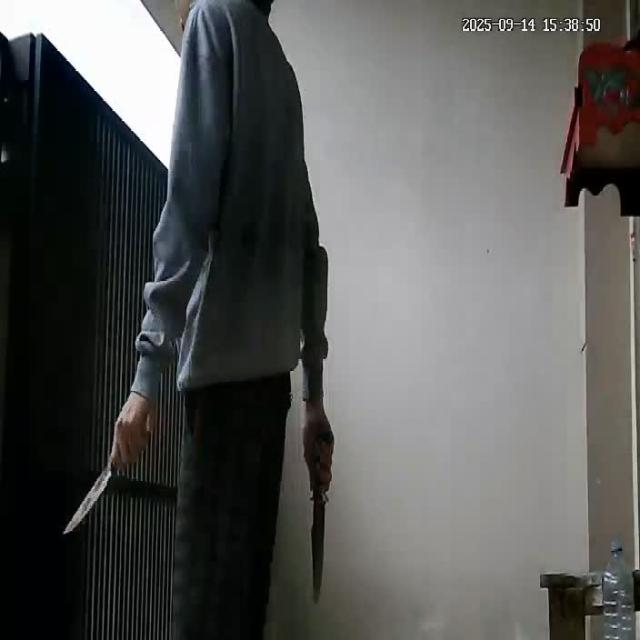senjata_tajam: (60, 454, 116, 538), (310, 486, 327, 610)
